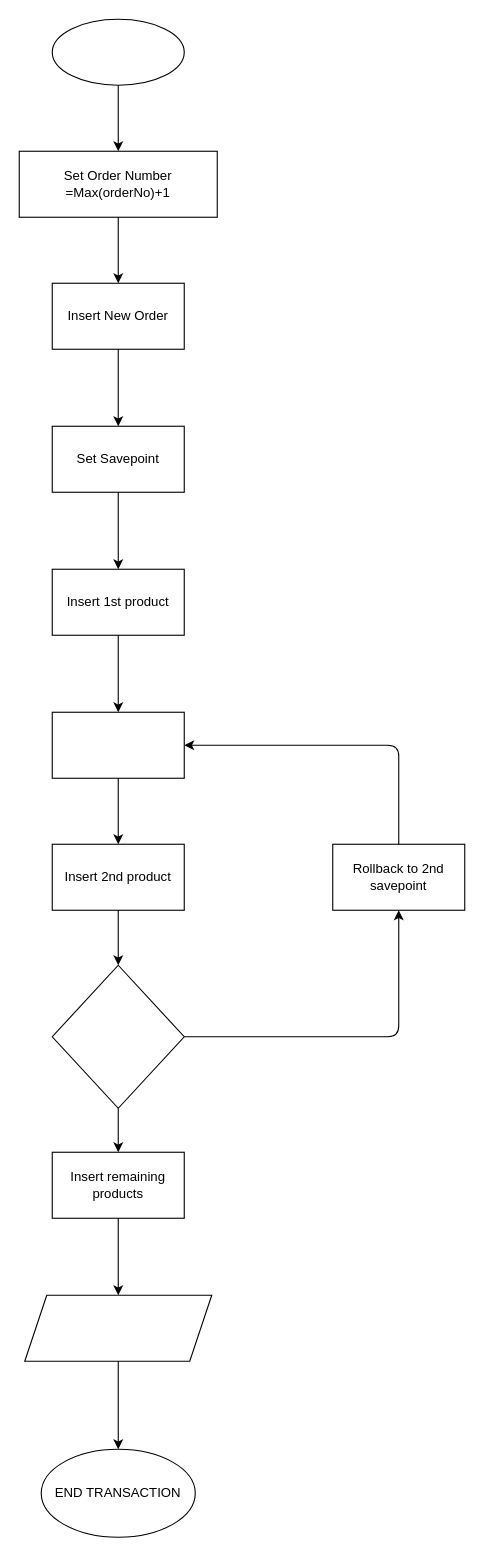
The diagram is 484 pixels wide and 1557 high, and some of its shapes have lost their labels. Each missing label, with the centre of its shape:
"2nd Savepoint" belongs at [117,744].
"IF error occurs" belongs at [117,1036].
"Payment from customer" belongs at [118,1327].
"START TRANSACTION" belongs at [117,51].
